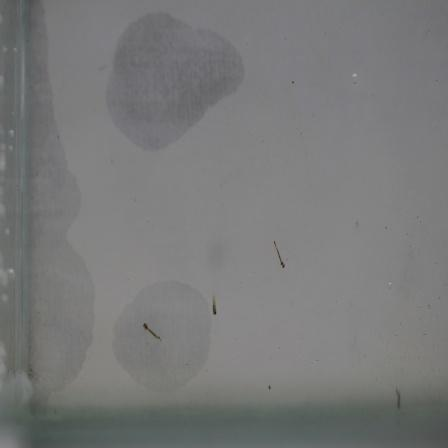Jentik-Nyamuk: (268, 234, 289, 273), (141, 317, 165, 343), (206, 283, 223, 318)
